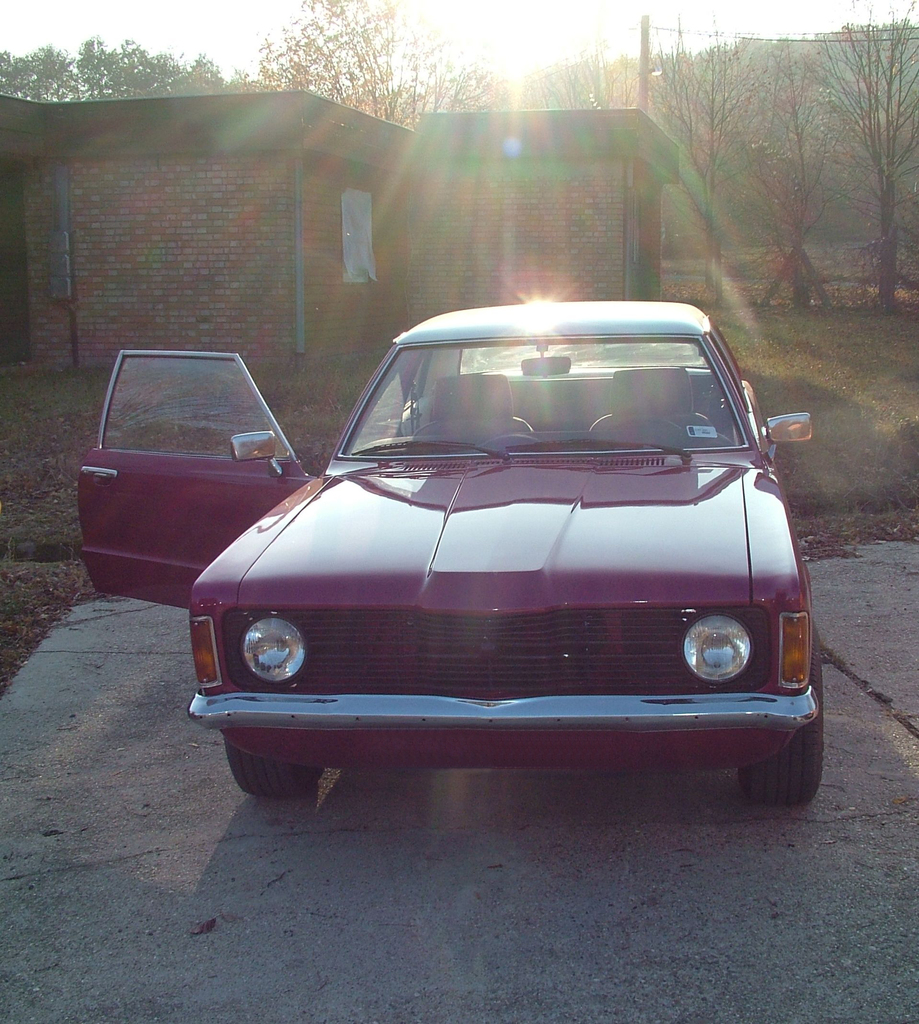mobil: (168, 279, 837, 870)
